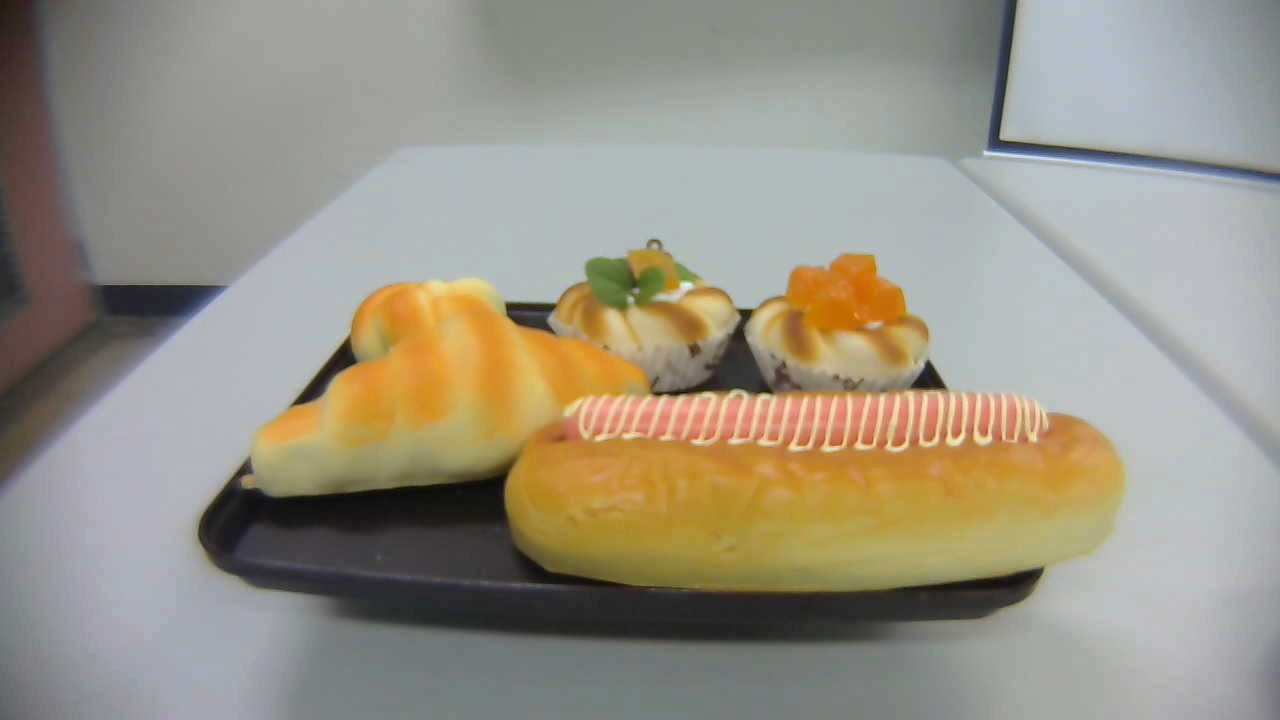croissant: (241, 295, 653, 497)
fruit tart: (547, 236, 743, 392)
hot dog: (504, 392, 1129, 591)
mango tart: (744, 252, 931, 400)
twist bread: (349, 276, 507, 377)
